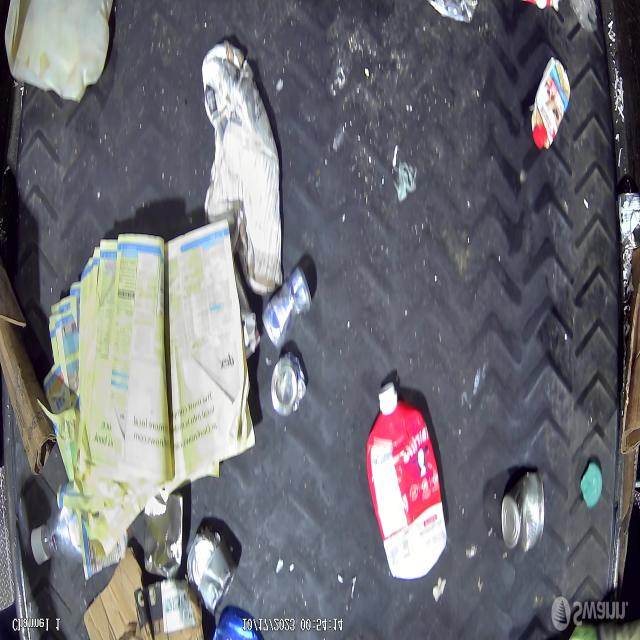can: (260, 260, 312, 354), (500, 466, 547, 553), (144, 489, 184, 578), (198, 541, 236, 616), (272, 348, 309, 417), (617, 193, 640, 251)
milk_jug: (6, 0, 115, 105)
non_white_jug: (367, 383, 447, 580)
